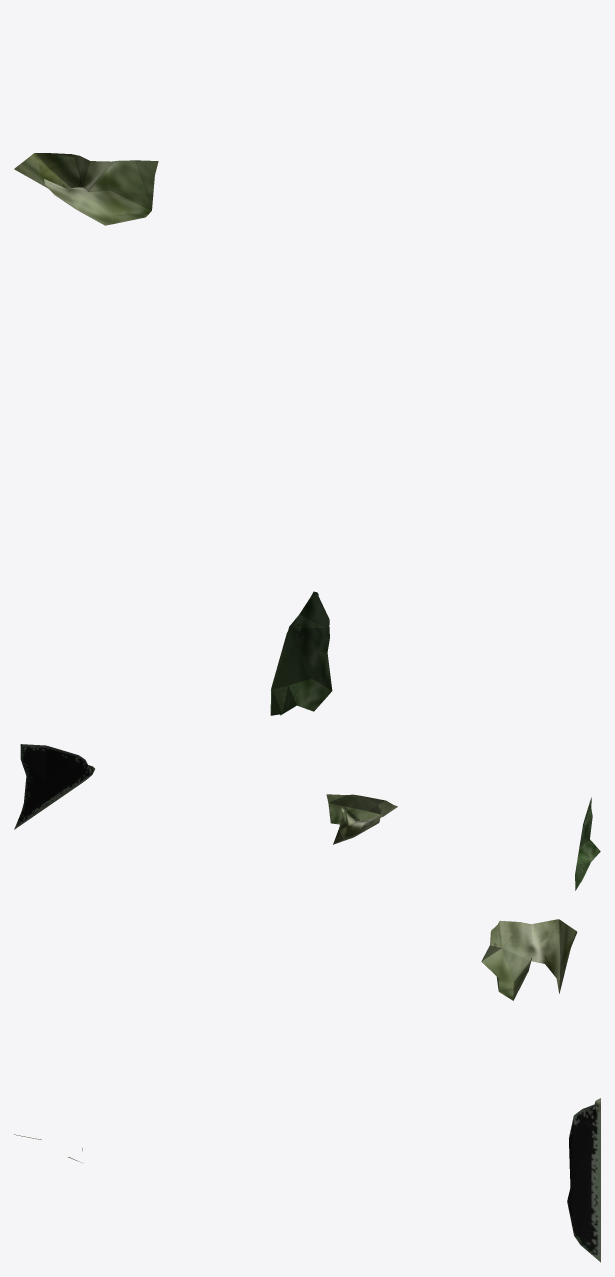
The picture shows the model from 3 angles, top to bottom: view 1: azimuth 30°, elevation 25°; view 2: azimuth 150°, elevation 25°; view 3: azimuth 270°, elevation 25°; orthographic projection. The views are drawn at different scales.
Bounding box in the file's own units: 5.9 × 2.87 × 5.9.
1 material, 1 textured.
